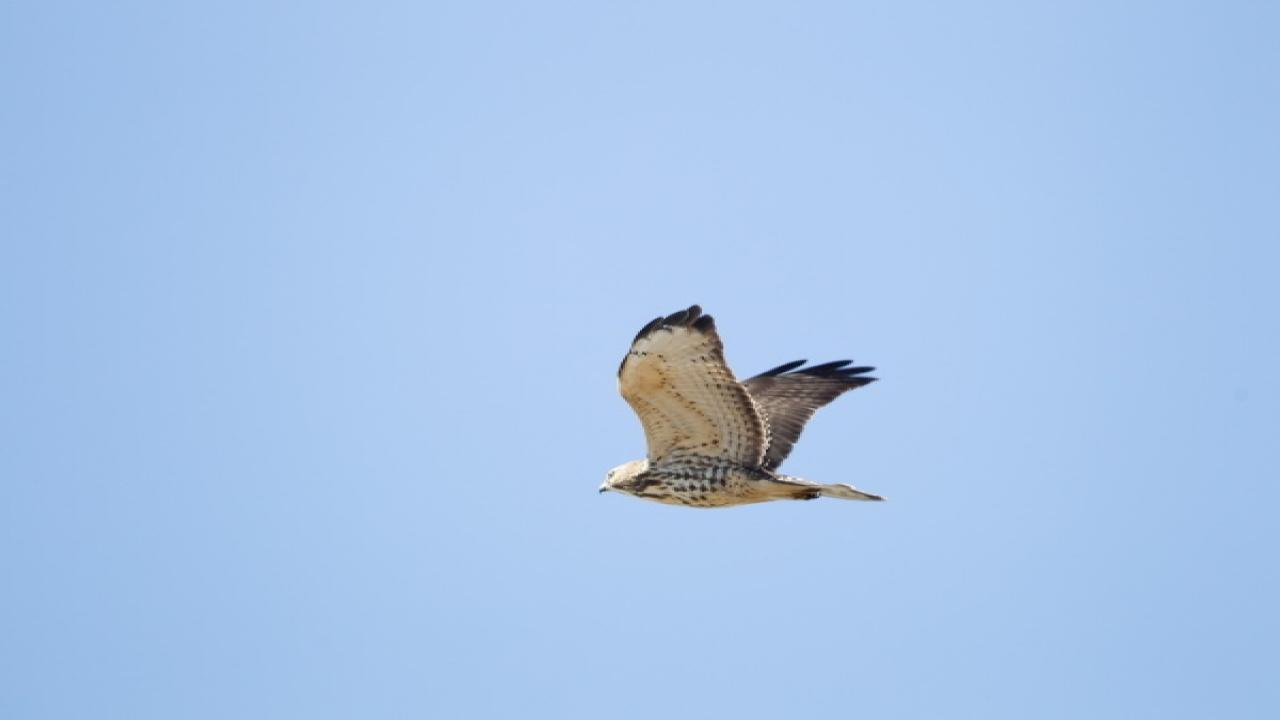Bird: (580, 298, 906, 511)
